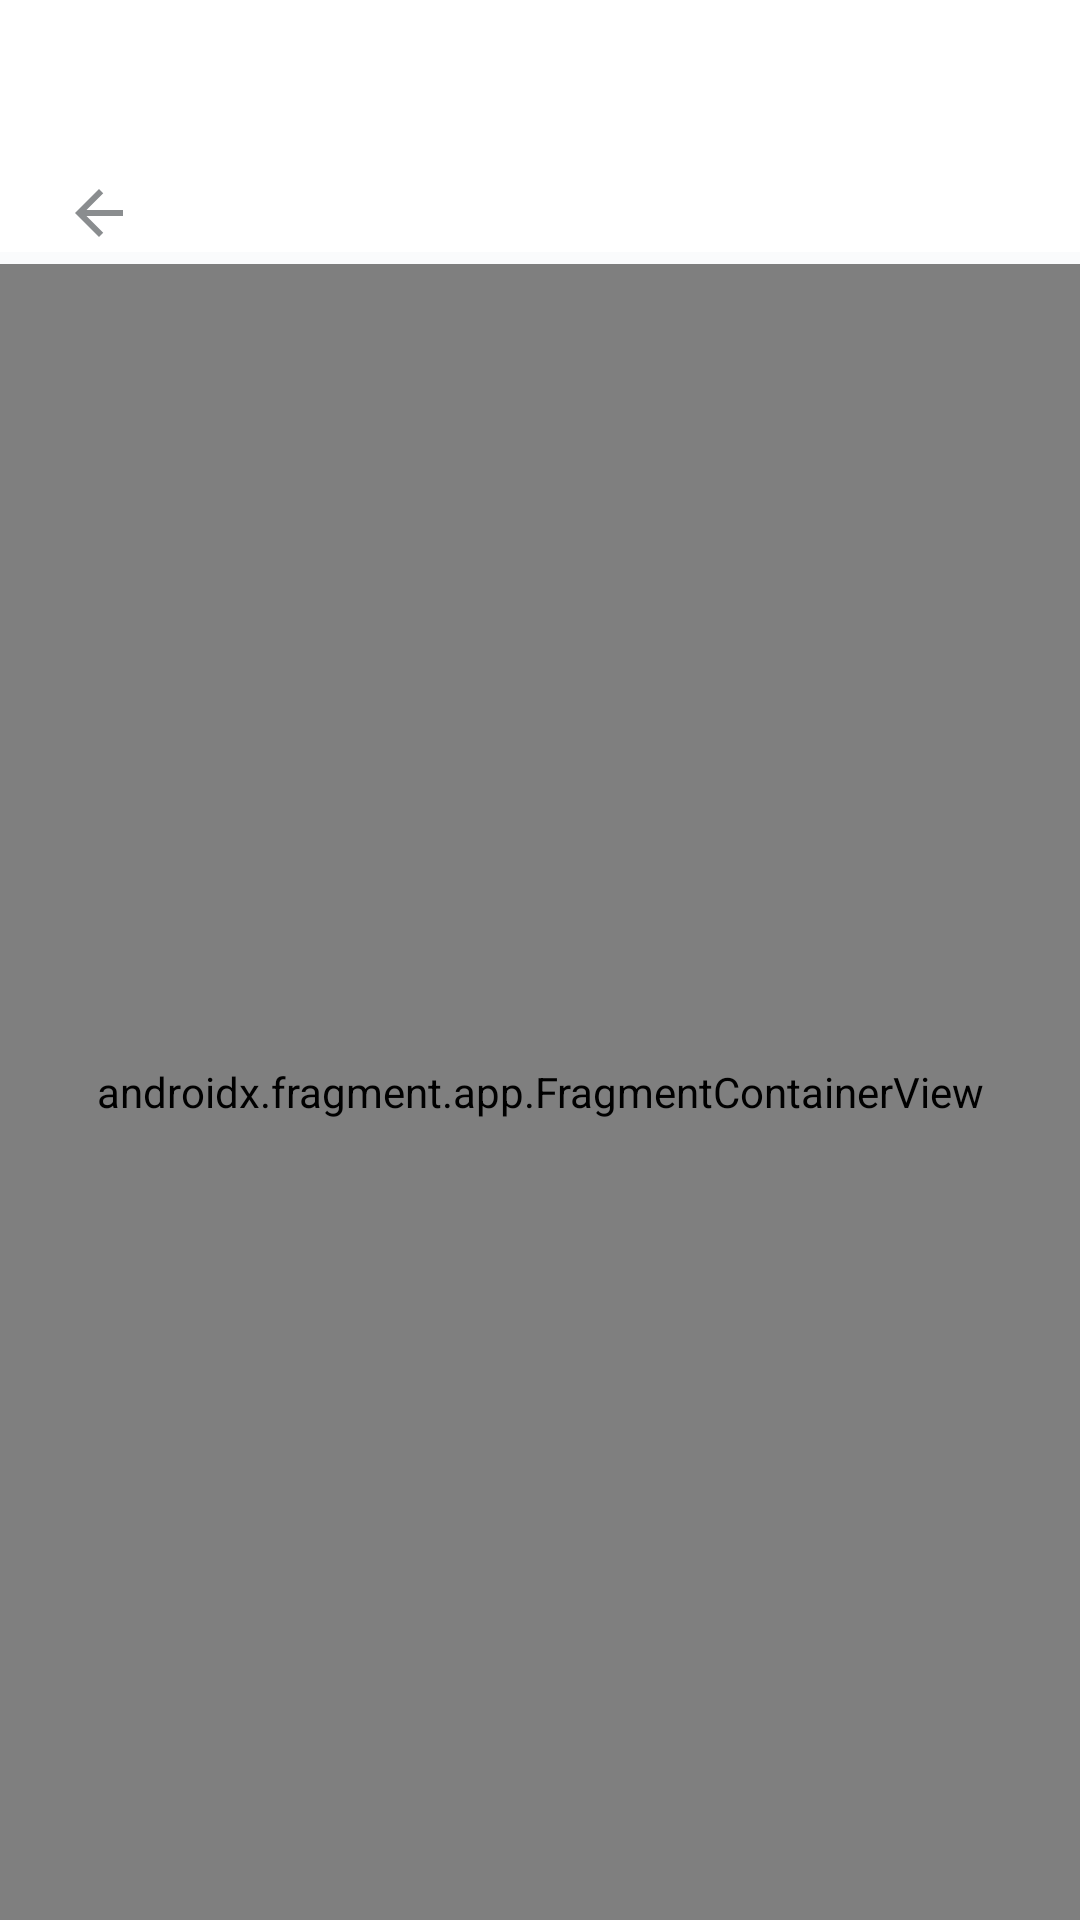

Named icons in this screenshot (1080*1920) and their centers, point (x, y):
뒤로가기: point (99, 213)
